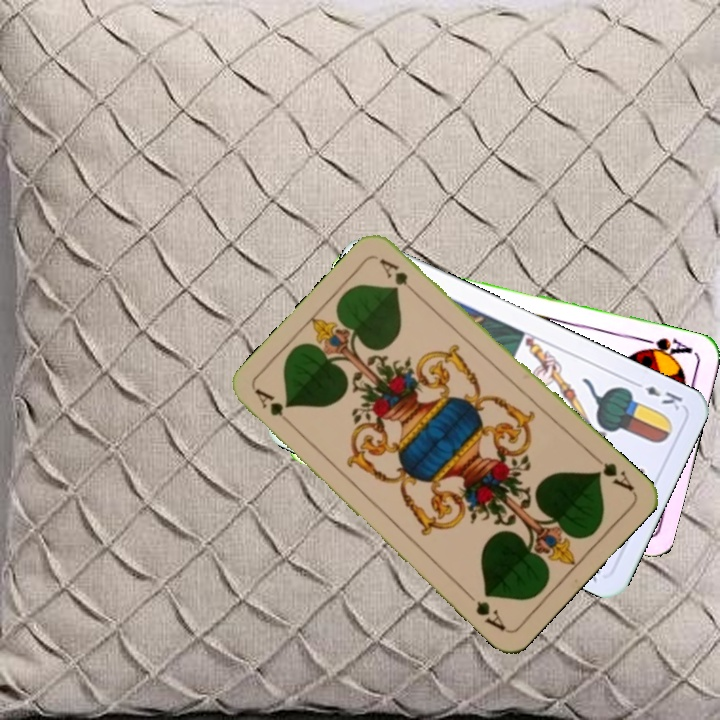EK: (628, 377, 685, 413)
GA: (251, 384, 299, 432), (588, 450, 637, 494)
SA: (636, 333, 695, 363)
